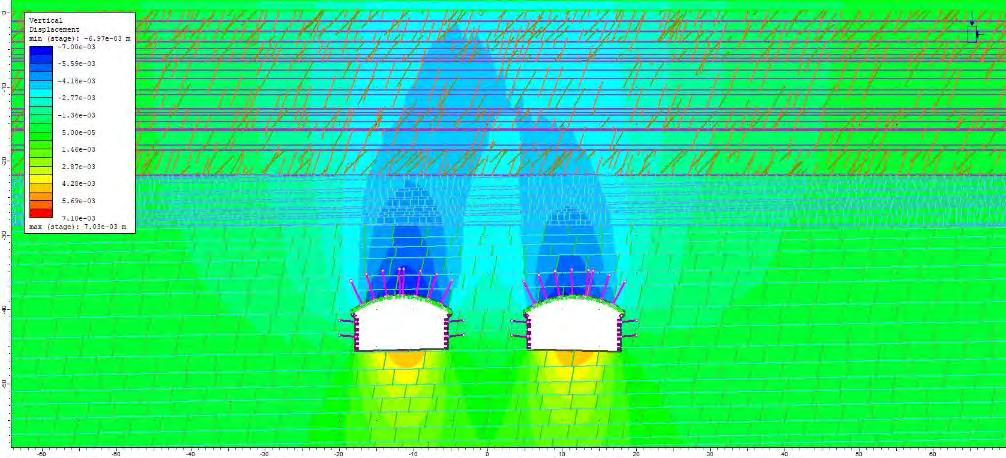crown: (389, 277, 420, 292), (560, 279, 592, 293)
label: (25, 12, 136, 233)
tunnel-opening: (350, 295, 452, 350), (528, 294, 622, 350)
